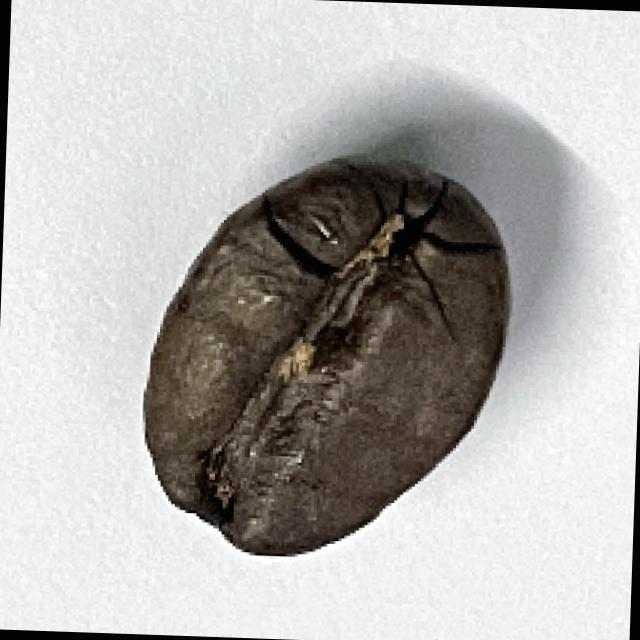bean: (135, 148, 512, 567)
